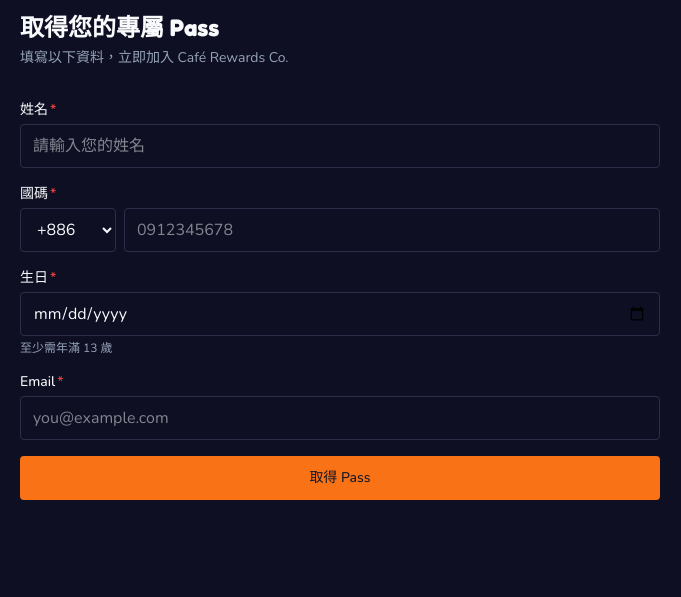
Test: PassHolderRegistration › shows localized validation error for too-short name after submit
The width and height of the screenshot is (681, 597).
Type "王" into the field with test id "pass-holder-name".
click(340, 146); type("王")  # box top-left (20, 124), bottom-right (660, 168)
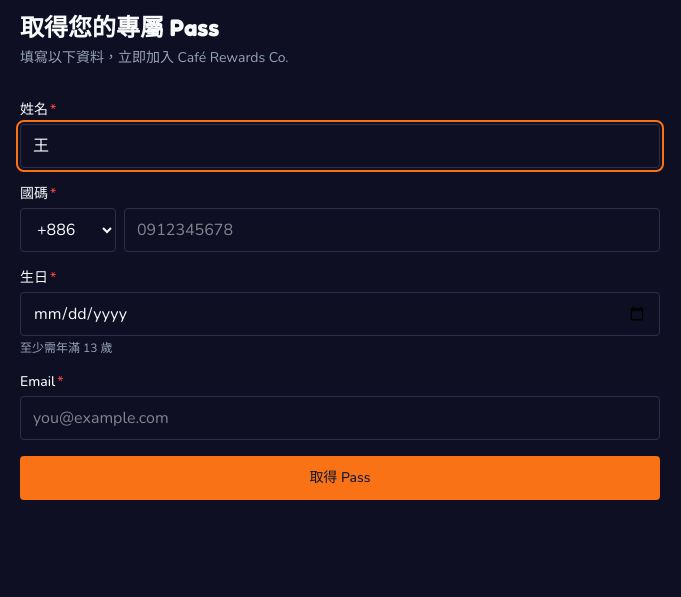
Click the button with test id "pass-holder-submit".
click(340, 478)  # box top-left (20, 456), bottom-right (660, 500)
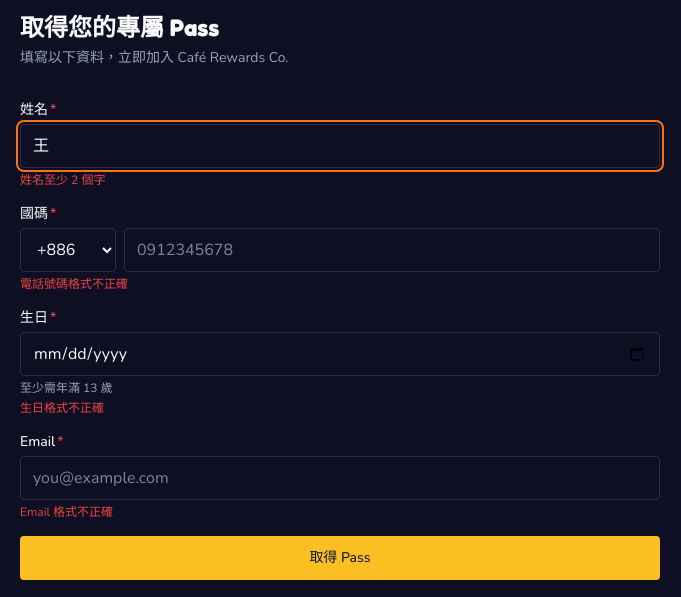
Now the message "姓名至少 2 個字" is shown, box top-left (20, 172), bottom-right (105, 188)
